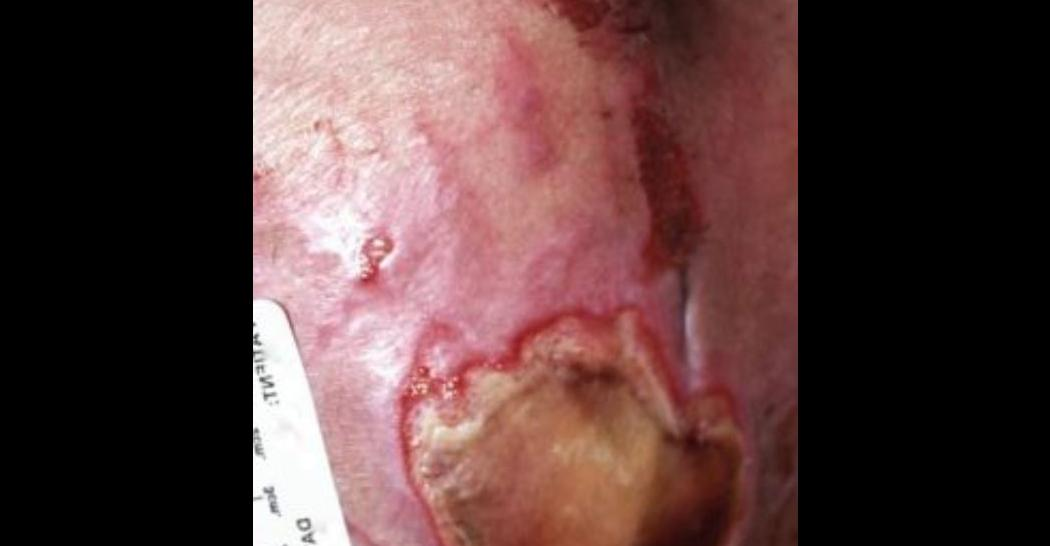Stage2: (375, 258, 780, 546)
